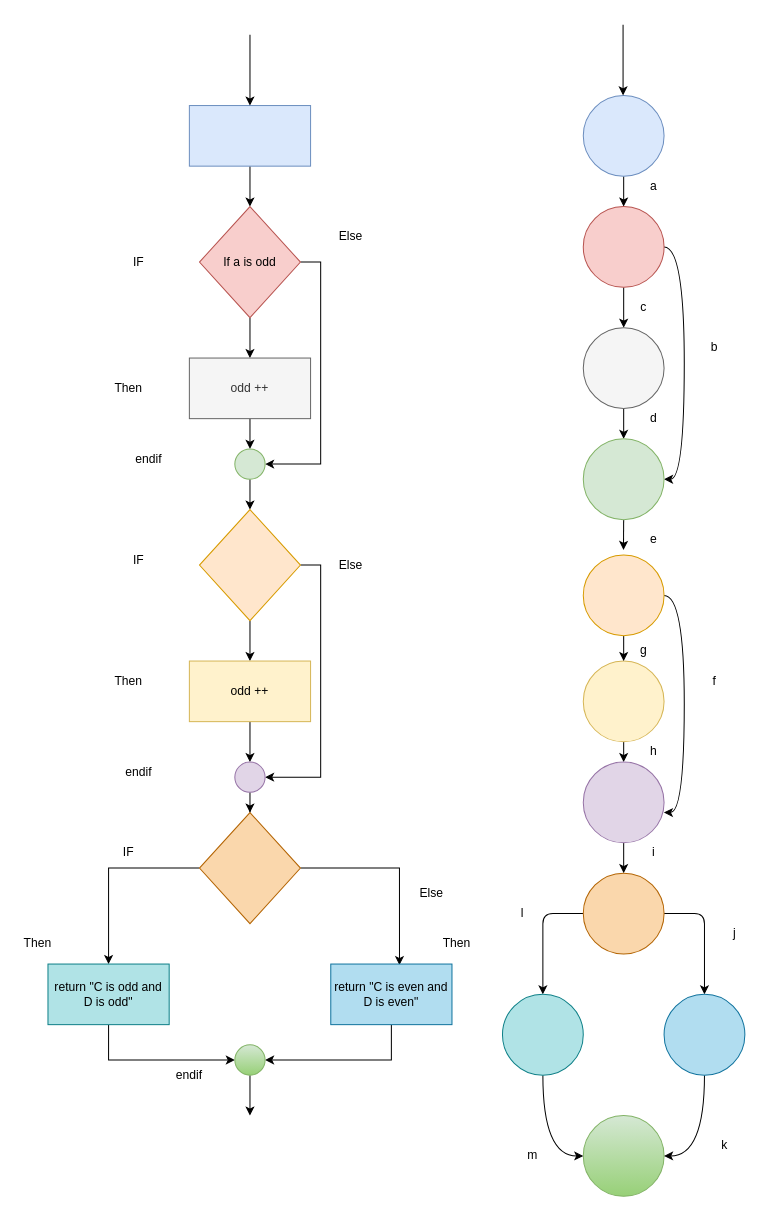
Image size: 772x1214. Some labels were removed from this diagram. Here are the shapes that lost their labels. From the top down, the centre of each, then its label:
At (x=249, y=135): "c = a + b d = a - b odd = 0".
At (x=249, y=565): "If b is odd".
At (x=249, y=868): "odd == 1".
